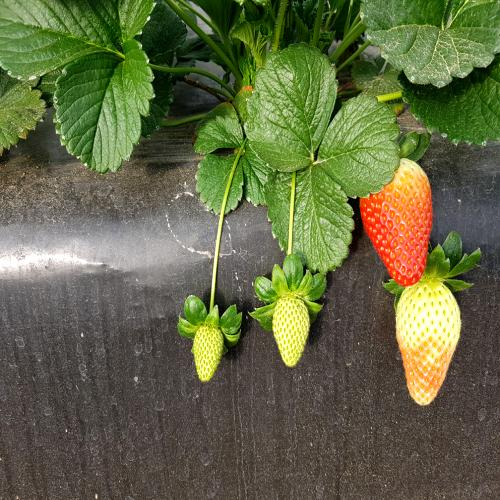ripe: (359, 126, 440, 297)
